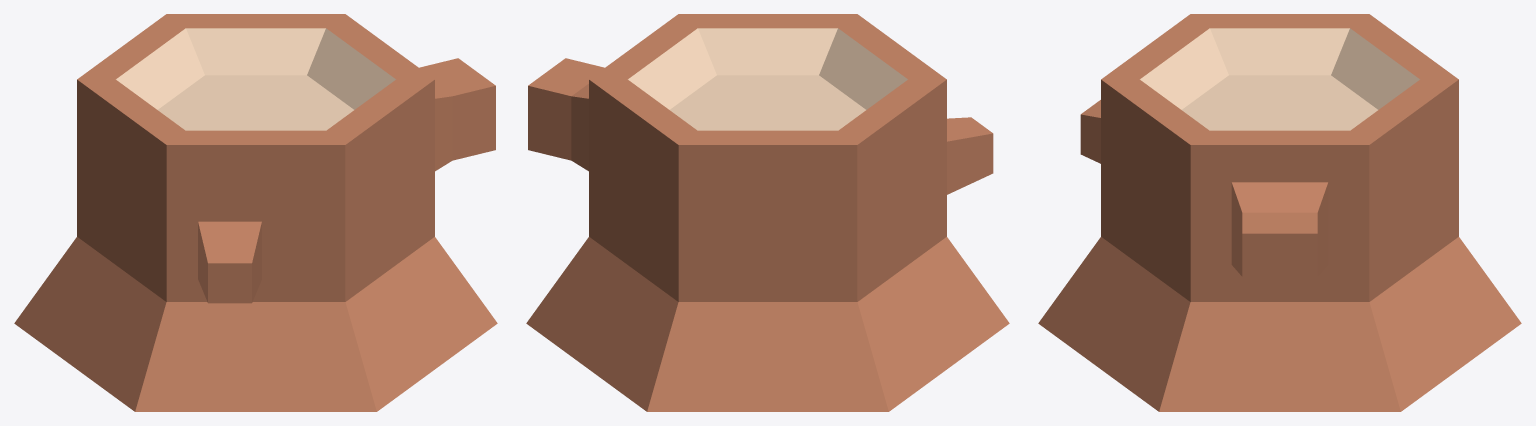
The model's file is stump.glb.
3 views of the same model, side by side, from view 1: azimuth 30°, elevation 25°; view 2: azimuth 150°, elevation 25°; view 3: azimuth 270°, elevation 25° (orthographic).
Visible parts, largest first — view 1: stump; view 2: stump; view 3: stump.
Boxes of the visible parts, box(x1,y1,x2,y2) form: stump: box(14, 14, 497, 411); stump: box(526, 14, 1009, 411); stump: box(1038, 14, 1521, 411).
Size of the model in its own units: 0.3565 by 0.2065 by 0.371.
